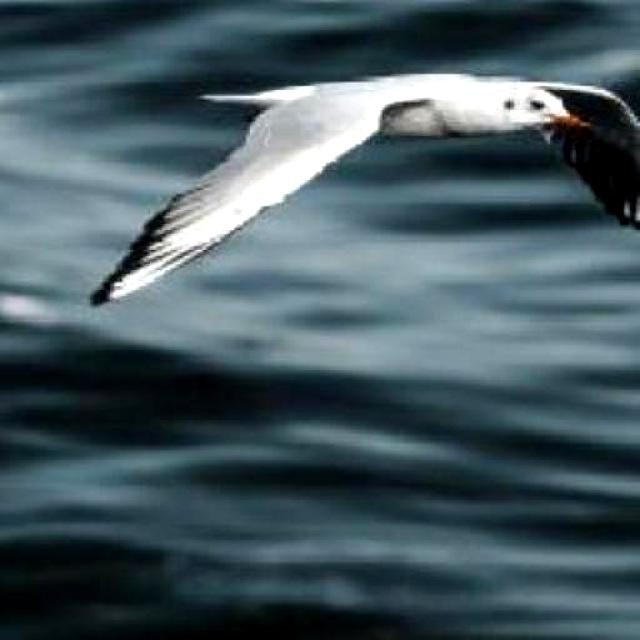airplane: (91, 66, 640, 306)
